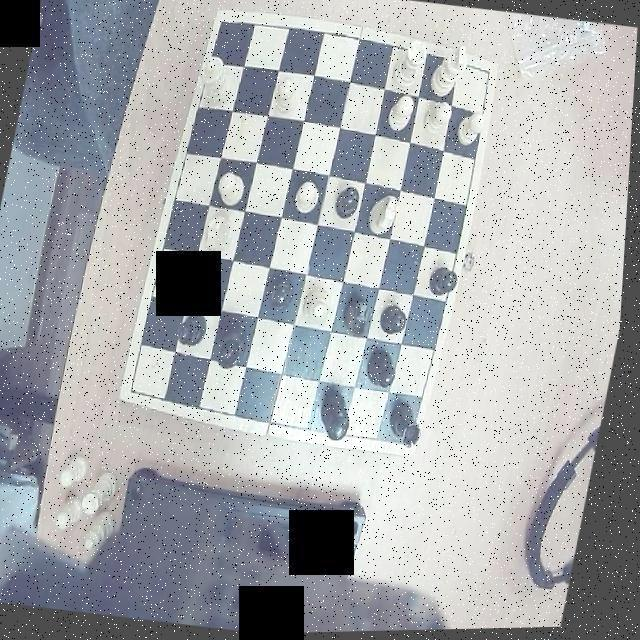chess-table-corners: (126, 372, 162, 404), (210, 13, 242, 45), (392, 424, 426, 454), (472, 62, 499, 92)
